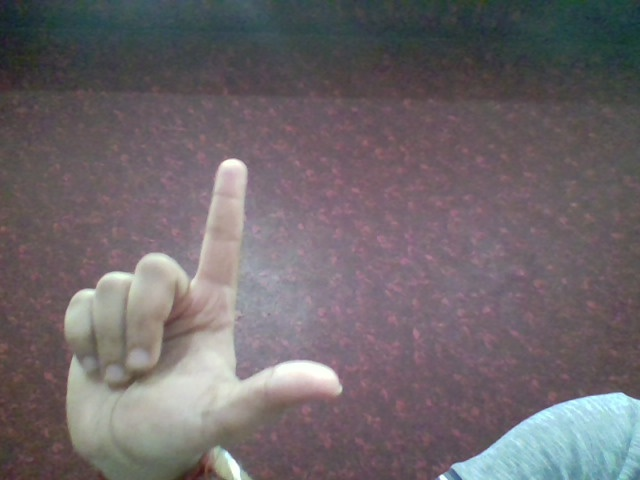l: (48, 150, 348, 470)
